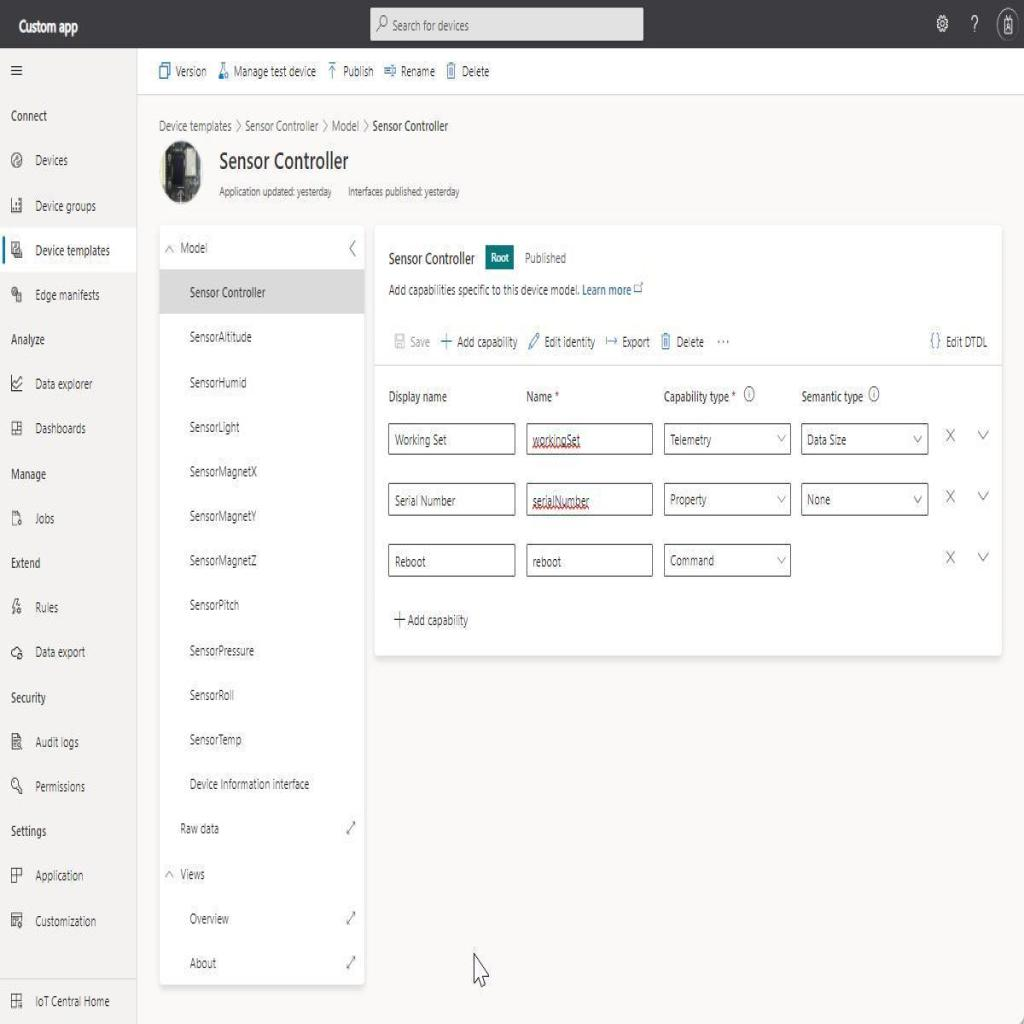button: (160, 268, 364, 314), (486, 244, 514, 271)
dropdown: (159, 225, 364, 268), (800, 482, 928, 517), (664, 542, 791, 577), (664, 422, 792, 456), (664, 483, 792, 516), (802, 423, 930, 455), (159, 859, 210, 888), (977, 546, 991, 566), (976, 427, 991, 442), (976, 490, 989, 502)
icon: (996, 8, 1020, 40), (927, 328, 943, 354), (8, 371, 24, 396), (8, 416, 26, 438), (934, 12, 950, 36), (9, 730, 24, 754), (9, 774, 23, 799), (7, 643, 24, 661), (9, 151, 23, 172), (10, 194, 24, 215), (9, 508, 23, 529), (393, 332, 407, 353), (10, 238, 22, 262), (158, 60, 171, 82), (444, 60, 458, 80), (526, 332, 540, 352), (10, 990, 23, 1011), (658, 332, 671, 353), (382, 62, 398, 79), (217, 60, 230, 80), (9, 62, 25, 78), (439, 333, 453, 351), (944, 546, 956, 567), (326, 58, 337, 80), (10, 864, 22, 884), (715, 336, 732, 350), (10, 910, 23, 928), (344, 954, 357, 972), (10, 286, 22, 305), (604, 336, 620, 350), (346, 820, 358, 838), (394, 611, 406, 629), (868, 386, 880, 404), (945, 487, 955, 508), (744, 385, 755, 404), (970, 14, 980, 34), (946, 423, 956, 443), (344, 910, 356, 926), (11, 597, 21, 616), (634, 280, 644, 294)
input: (370, 8, 644, 40), (389, 481, 515, 516), (388, 422, 516, 455), (526, 422, 653, 455), (526, 483, 653, 516), (388, 544, 515, 577), (526, 544, 652, 577)
label: (218, 146, 352, 177), (190, 775, 310, 794), (18, 12, 80, 40), (388, 250, 474, 270), (34, 242, 111, 262), (663, 387, 736, 408), (34, 994, 111, 1012), (35, 286, 101, 306), (187, 372, 250, 392), (188, 552, 258, 570), (186, 462, 259, 479), (35, 374, 92, 395), (35, 912, 98, 931), (188, 508, 258, 525), (234, 65, 317, 79), (190, 642, 254, 660), (408, 612, 469, 630), (189, 730, 243, 750), (34, 777, 85, 798), (36, 198, 95, 216), (798, 389, 864, 405), (188, 596, 240, 616), (454, 333, 519, 349), (386, 389, 450, 405), (36, 864, 84, 885), (190, 329, 254, 344), (946, 332, 989, 353), (544, 334, 596, 351), (34, 732, 80, 751), (35, 644, 86, 661), (188, 418, 242, 434), (34, 150, 69, 173), (179, 820, 222, 838), (11, 330, 47, 350), (188, 910, 228, 928), (520, 386, 562, 403), (11, 106, 49, 124), (35, 423, 86, 436), (189, 688, 234, 702), (189, 952, 219, 973), (10, 554, 43, 572), (9, 689, 46, 705), (9, 826, 48, 840), (672, 334, 706, 350), (462, 62, 492, 80), (10, 468, 47, 482), (621, 333, 653, 349), (400, 64, 435, 78), (175, 64, 206, 78), (35, 508, 55, 529), (343, 65, 375, 77), (34, 600, 60, 614), (410, 334, 431, 351)
